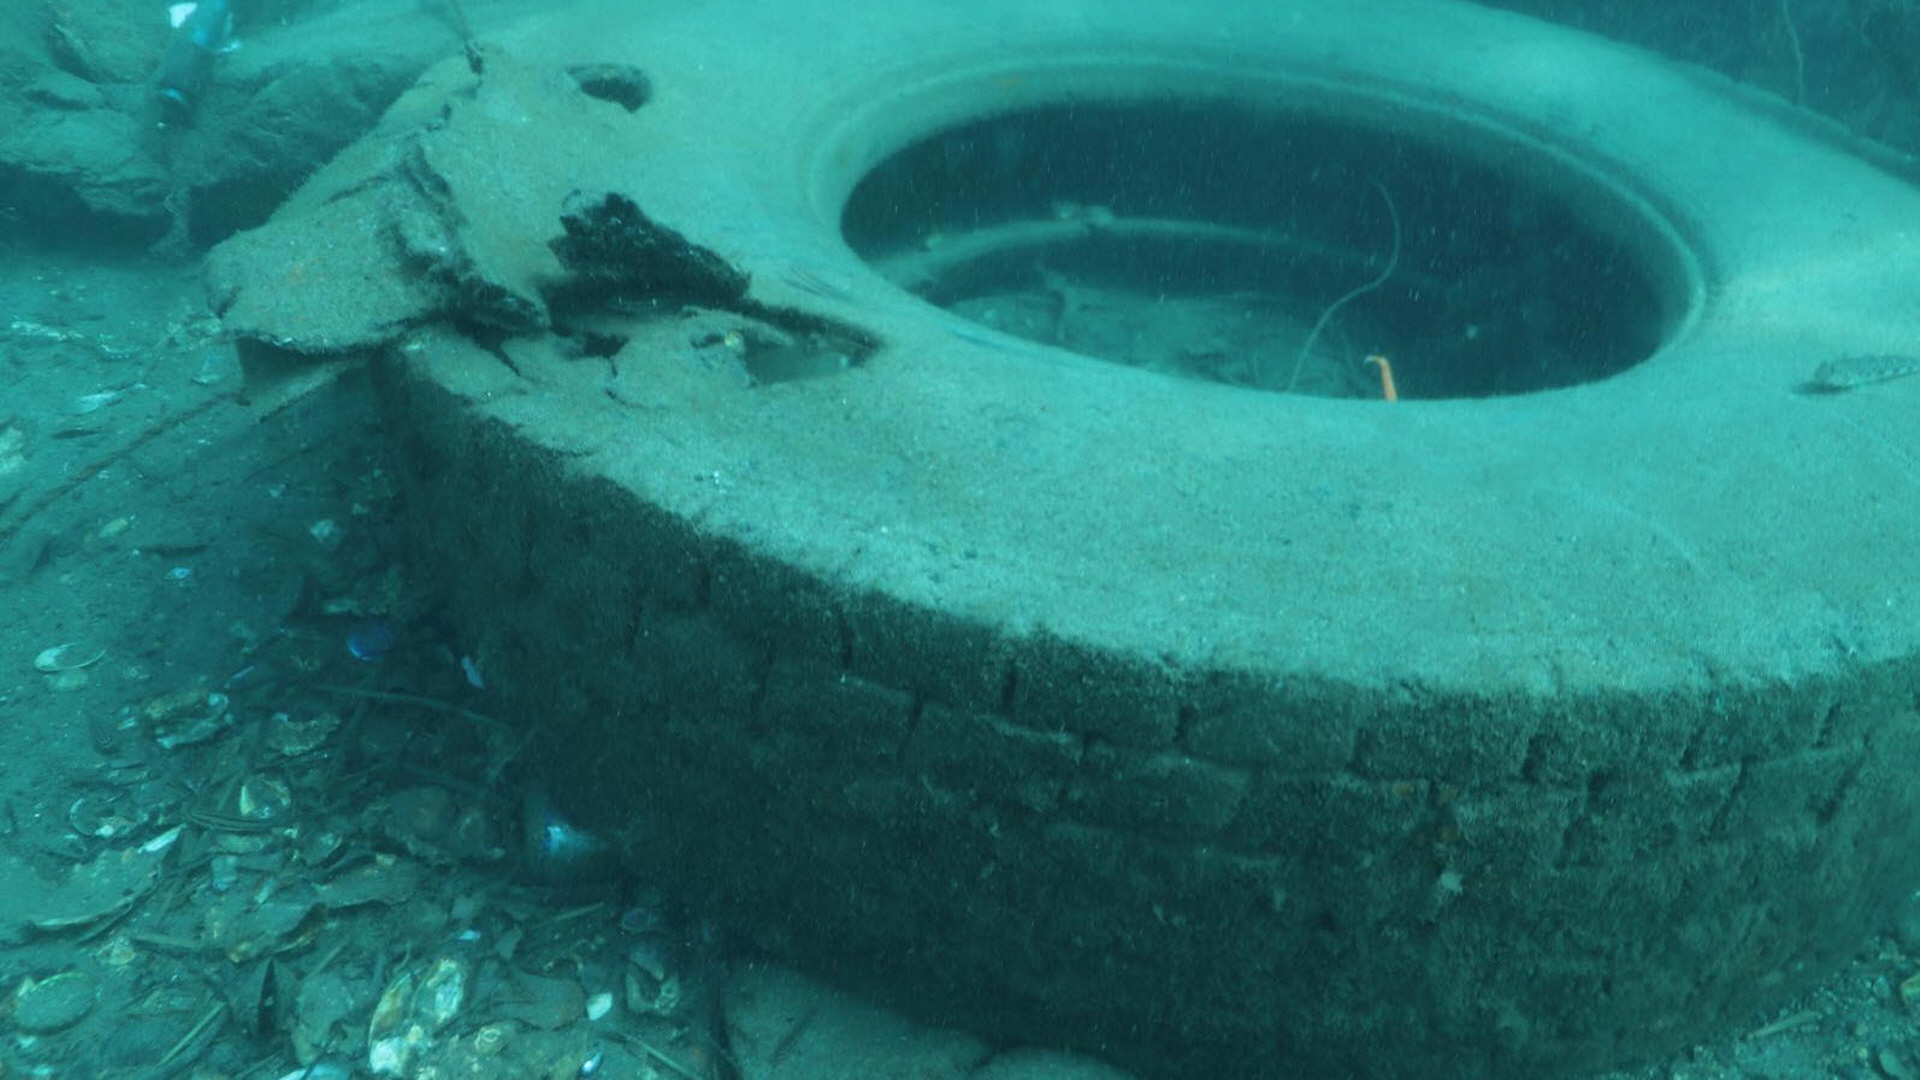tire: (372, 0, 1920, 1080)
